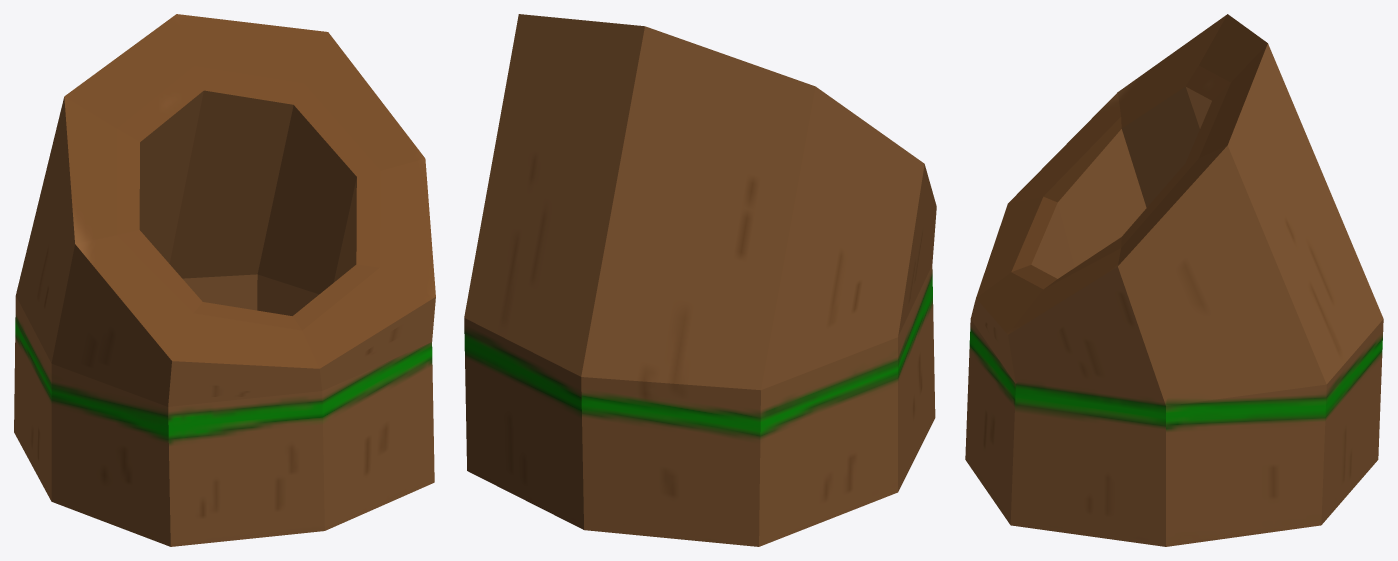
The model's file is pipe3.fbx.
3 views of the same model, side by side, from view 1: azimuth 30°, elevation 25°; view 2: azimuth 150°, elevation 25°; view 3: azimuth 270°, elevation 25° (orthographic). The views are drawn at different scales.
Parts seen in each view (by area): view 1: Torus; view 2: Torus; view 3: Torus.
Boxes of the visible parts, bbox=[...] form: Torus: bbox=[14, 14, 435, 546]; Torus: bbox=[464, 14, 936, 546]; Torus: bbox=[965, 14, 1383, 546].
Bounding box in the file's own units: 265 × 296 × 269.
Materials: 1 (1 with a texture image).
